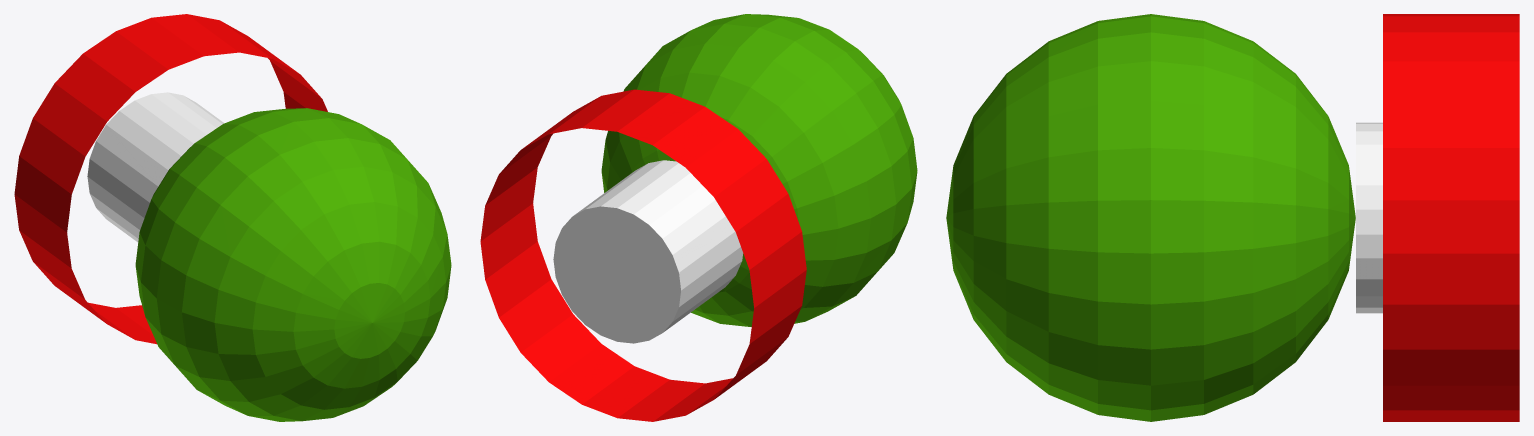
File: LPE150cm.obj
3 renders of one model, left to right at view 1: azimuth 30°, elevation 25°; view 2: azimuth 150°, elevation 25°; view 3: azimuth 270°, elevation 25°, orthographic. The views are drawn at different scales.
Bounding box in the file's own units: 1.5 × 1.5 × 2.1.
